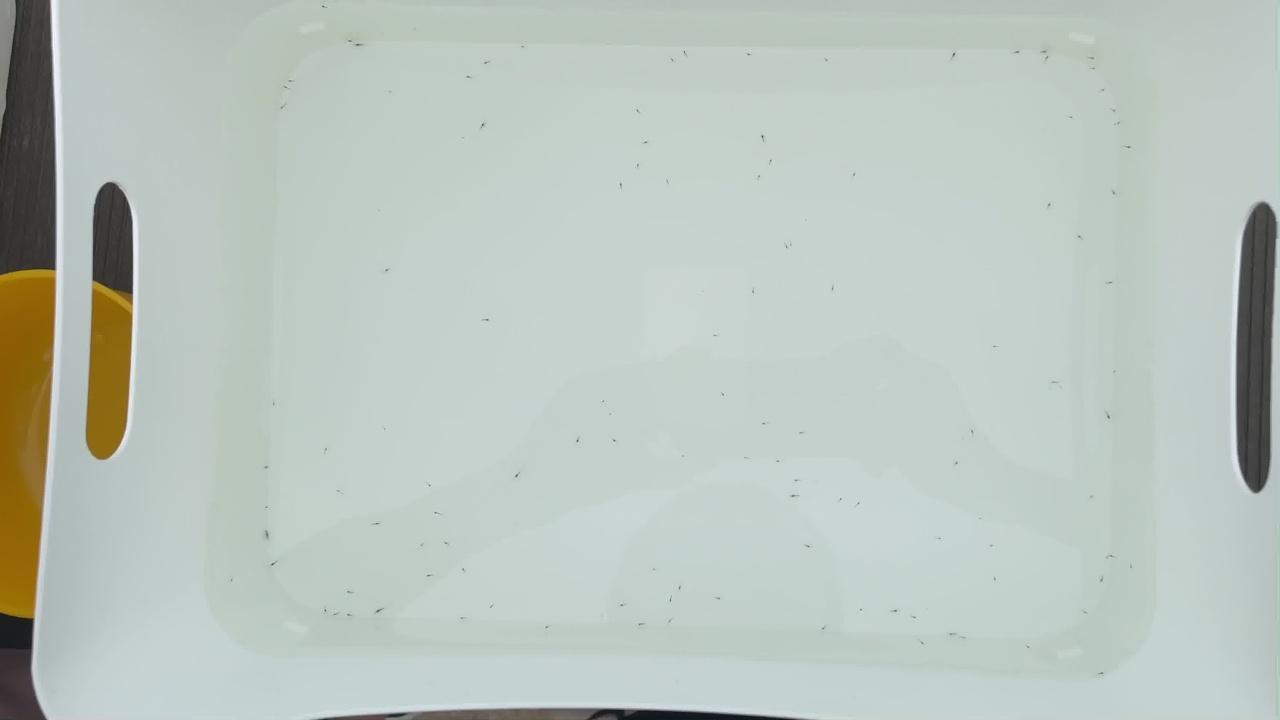shrimp: (316, 3, 328, 11), (342, 37, 354, 45), (353, 42, 365, 50), (284, 79, 296, 87), (279, 86, 291, 94), (278, 103, 290, 111), (384, 91, 396, 99), (462, 74, 474, 82), (480, 60, 492, 68), (516, 44, 528, 52), (478, 122, 490, 130), (457, 138, 469, 146), (631, 110, 643, 118), (665, 57, 677, 65), (679, 48, 691, 56), (743, 52, 755, 60), (821, 58, 833, 66), (947, 52, 959, 60), (1012, 49, 1024, 57), (757, 133, 769, 141), (764, 157, 776, 165), (753, 175, 765, 183), (662, 181, 674, 189), (615, 184, 627, 192), (632, 162, 644, 170), (641, 139, 653, 147), (849, 171, 861, 179), (778, 243, 790, 251), (785, 240, 797, 248), (828, 286, 840, 294), (747, 288, 759, 296), (709, 333, 721, 341), (481, 316, 493, 324), (381, 267, 393, 275), (268, 399, 280, 407), (261, 466, 273, 474), (263, 505, 275, 513), (262, 532, 274, 540), (268, 562, 280, 570), (223, 576, 235, 584), (318, 606, 330, 614), (331, 610, 343, 618), (341, 613, 353, 621), (342, 591, 354, 599), (375, 609, 387, 617), (426, 571, 438, 579), (460, 616, 472, 624), (485, 602, 497, 610), (458, 568, 470, 576), (440, 541, 452, 549), (415, 544, 427, 552), (370, 521, 382, 529), (332, 486, 344, 494), (319, 446, 331, 454), (380, 425, 392, 433), (424, 481, 436, 489), (432, 511, 444, 519), (510, 471, 522, 479), (572, 437, 584, 445), (597, 399, 609, 407), (605, 412, 617, 420), (608, 437, 620, 445), (542, 626, 554, 634), (617, 601, 629, 609), (634, 621, 646, 629), (664, 618, 676, 626), (664, 597, 676, 605), (675, 583, 687, 591), (649, 567, 661, 575), (714, 596, 726, 604), (819, 625, 831, 633), (856, 607, 868, 615), (890, 609, 902, 617), (911, 615, 923, 623), (917, 640, 929, 648), (946, 631, 958, 639), (960, 635, 972, 643), (1023, 642, 1035, 650), (989, 577, 1001, 585), (986, 544, 998, 552), (974, 514, 986, 522), (934, 534, 946, 542), (801, 543, 813, 551), (853, 500, 865, 508), (836, 495, 848, 503), (787, 494, 799, 502), (790, 477, 802, 485), (772, 458, 784, 466), (741, 454, 753, 462), (759, 420, 771, 428), (796, 431, 808, 439), (715, 390, 727, 398), (678, 451, 690, 459), (1096, 669, 1108, 677), (1079, 609, 1091, 617), (1096, 575, 1108, 583), (1101, 553, 1113, 561), (1105, 553, 1117, 561), (1124, 564, 1136, 572), (1086, 496, 1098, 504), (1103, 412, 1115, 420), (1048, 379, 1060, 387), (988, 343, 1000, 351), (966, 427, 978, 435), (952, 460, 964, 468), (1109, 368, 1121, 376), (1104, 278, 1116, 286), (1074, 234, 1086, 242), (1044, 203, 1056, 211), (1109, 188, 1121, 196), (1124, 143, 1136, 151), (1114, 121, 1126, 129), (1108, 107, 1120, 115), (1098, 85, 1110, 93), (1089, 67, 1101, 75), (1088, 56, 1100, 64), (1040, 55, 1052, 63), (1040, 51, 1052, 59), (1066, 113, 1078, 121)
